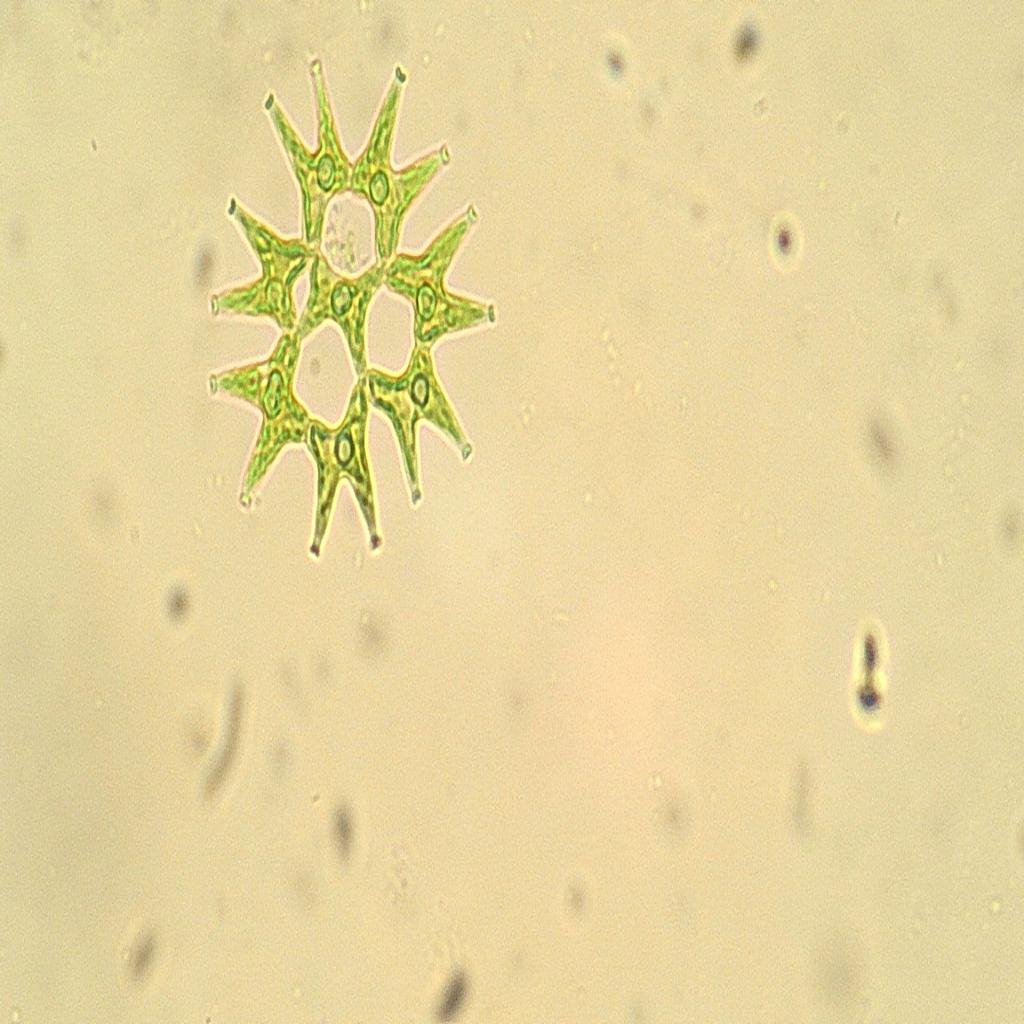Pediastrum_CTH: (204, 43, 509, 590)
